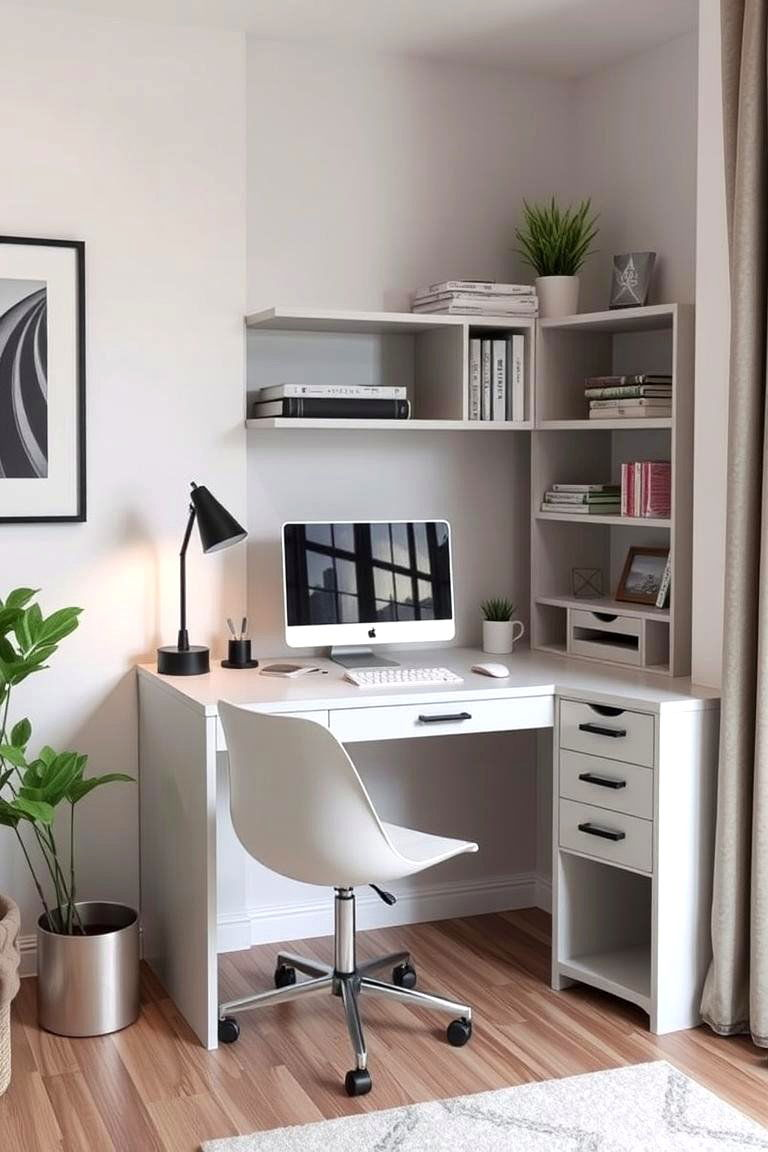not a gesture sign: (246, 37, 574, 310)
